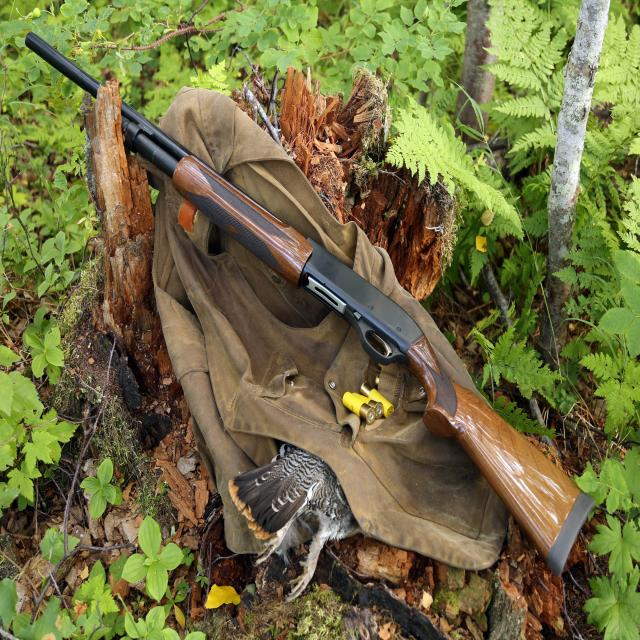ShotGun: (25, 35, 595, 578)
